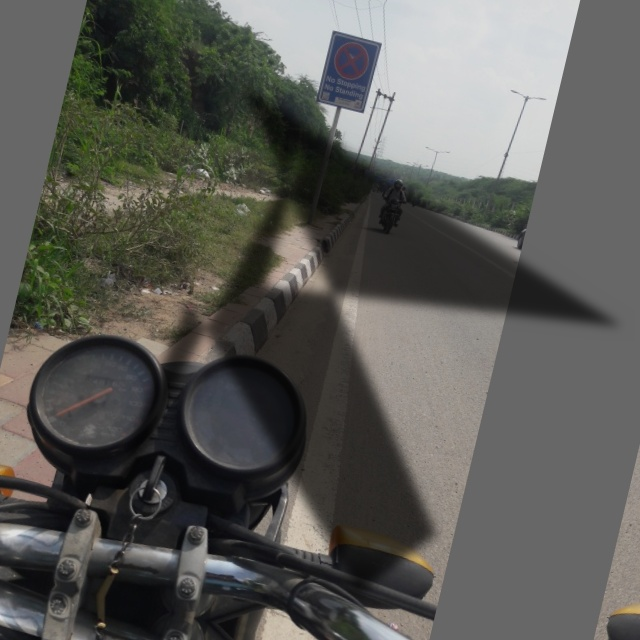No_Stopping_or_Standing: (323, 31, 383, 91)
